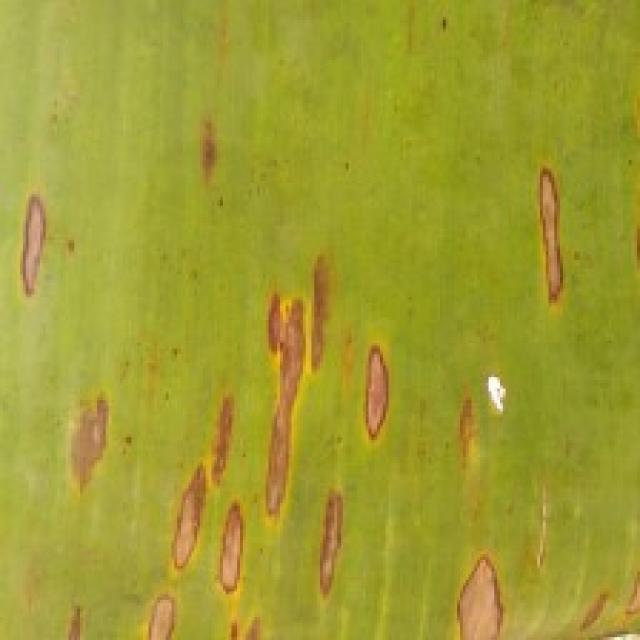Early_leaf_spot: (245, 241, 336, 540), (423, 355, 528, 496), (169, 390, 234, 590), (25, 369, 127, 492), (414, 530, 528, 640), (524, 137, 588, 319), (294, 451, 363, 605), (5, 189, 84, 306), (548, 545, 640, 640), (342, 322, 400, 452), (172, 89, 234, 205), (212, 481, 248, 607), (214, 580, 279, 639), (128, 565, 176, 640), (60, 568, 88, 640)
